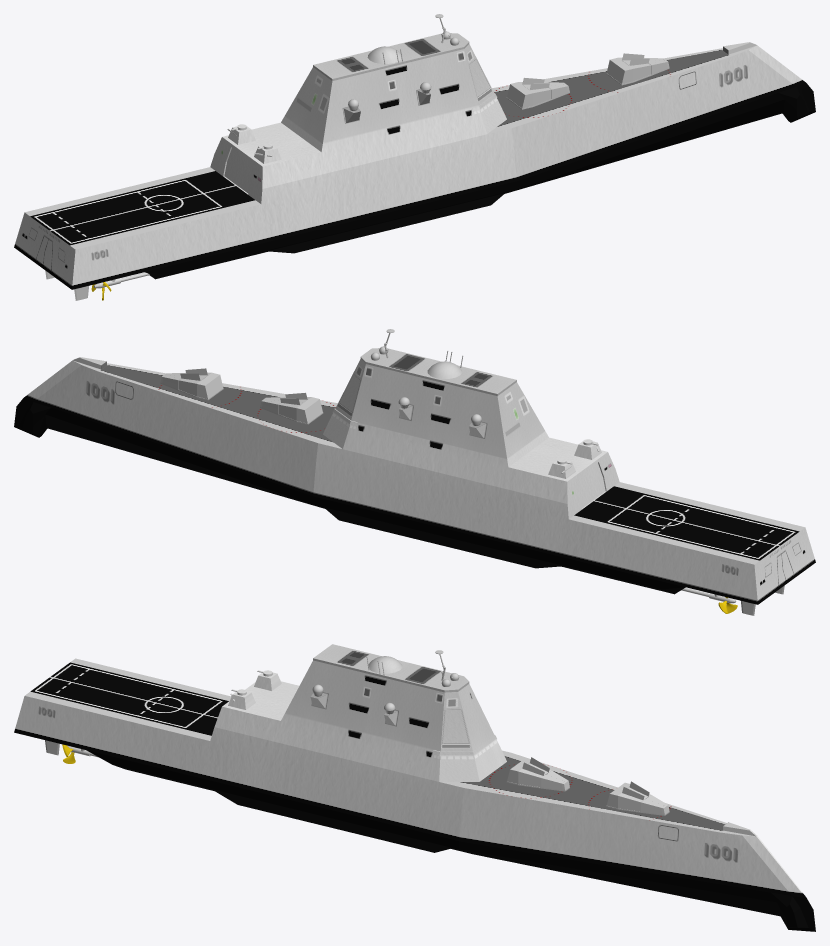
File: zumwalt6.glb
3 renders of one model, top to bottom at view 1: azimuth 30°, elevation 25°; view 2: azimuth 150°, elevation 25°; view 3: azimuth 330°, elevation 25°, orthographic.
Visible parts, largest first — view 1: Cube, AltConfig, Turret2, Turret1; view 2: Cube, AltConfig, Turret2, Turret1; view 3: Cube, AltConfig, Turret2, Turret1.
Boxes of the visible parts, x1=… form: Cube: x1=14, y1=33, x2=815, y2=289; AltConfig: x1=228, y1=14, x2=459, y2=163; Turret2: x1=507, y1=82, x2=551, y2=108; Turret1: x1=606, y1=57, x2=650, y2=83; Cube: x1=14, y1=348, x2=815, y2=604; AltConfig: x1=370, y1=329, x2=601, y2=478; Turret2: x1=278, y1=397, x2=322, y2=423; Turret1: x1=179, y1=372, x2=223, y2=398; Cube: x1=14, y1=644, x2=815, y2=931; AltConfig: x1=228, y1=650, x2=459, y2=725; Turret2: x1=507, y1=758, x2=550, y2=787; Turret1: x1=606, y1=782, x2=650, y2=811.
Size of the model in its own units: 189 by 44.9 by 24.6.
Materials: 3 (1 with a texture image).
